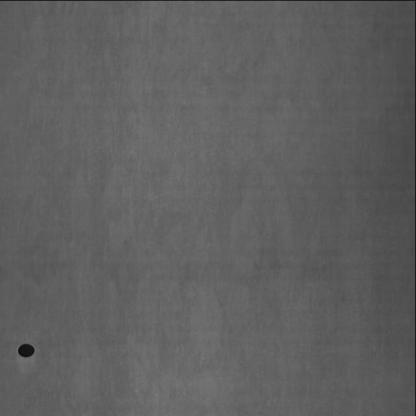punching_hole: (16, 340, 36, 358)
